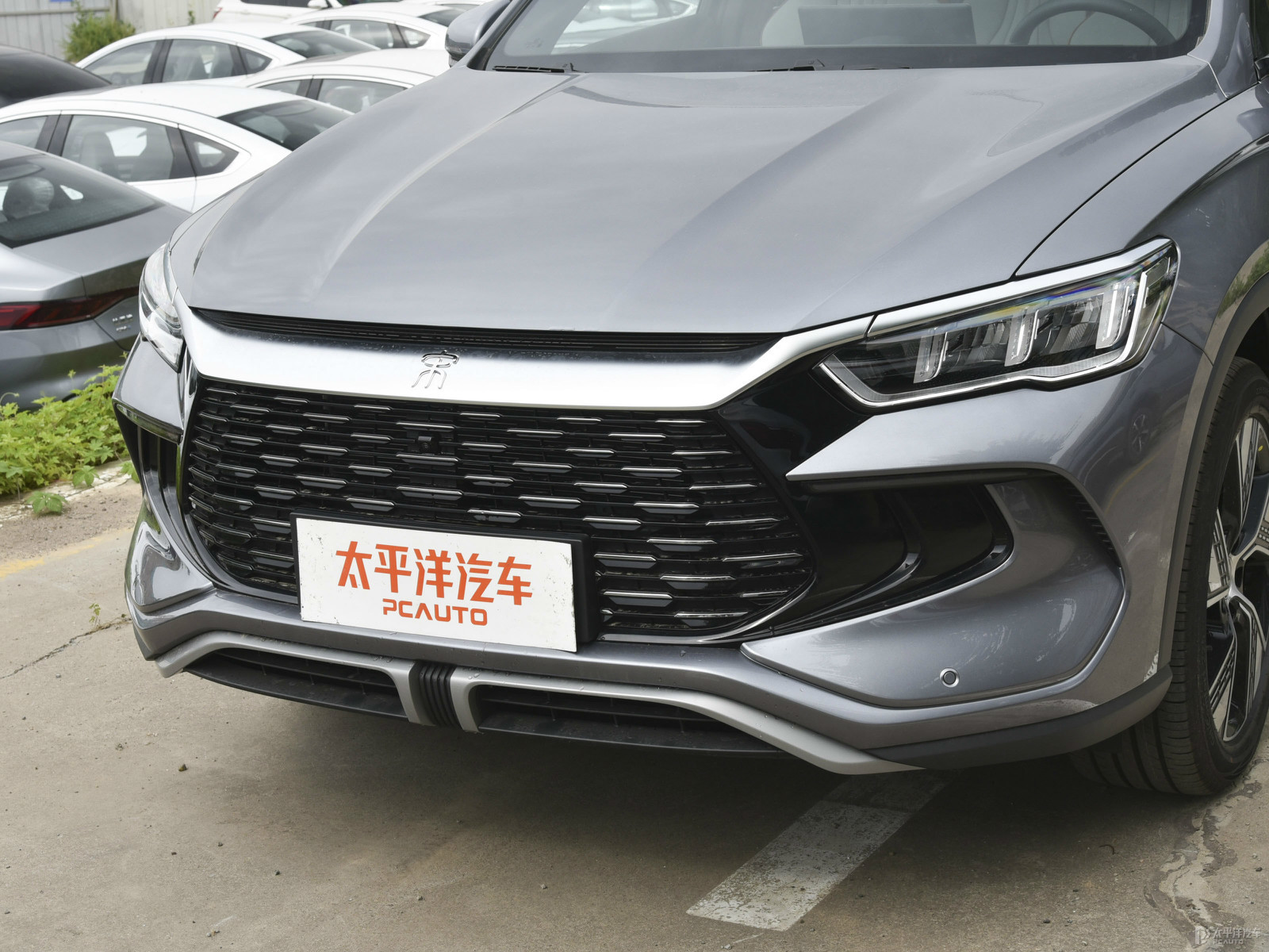BYD Song: (412, 351, 459, 389)
